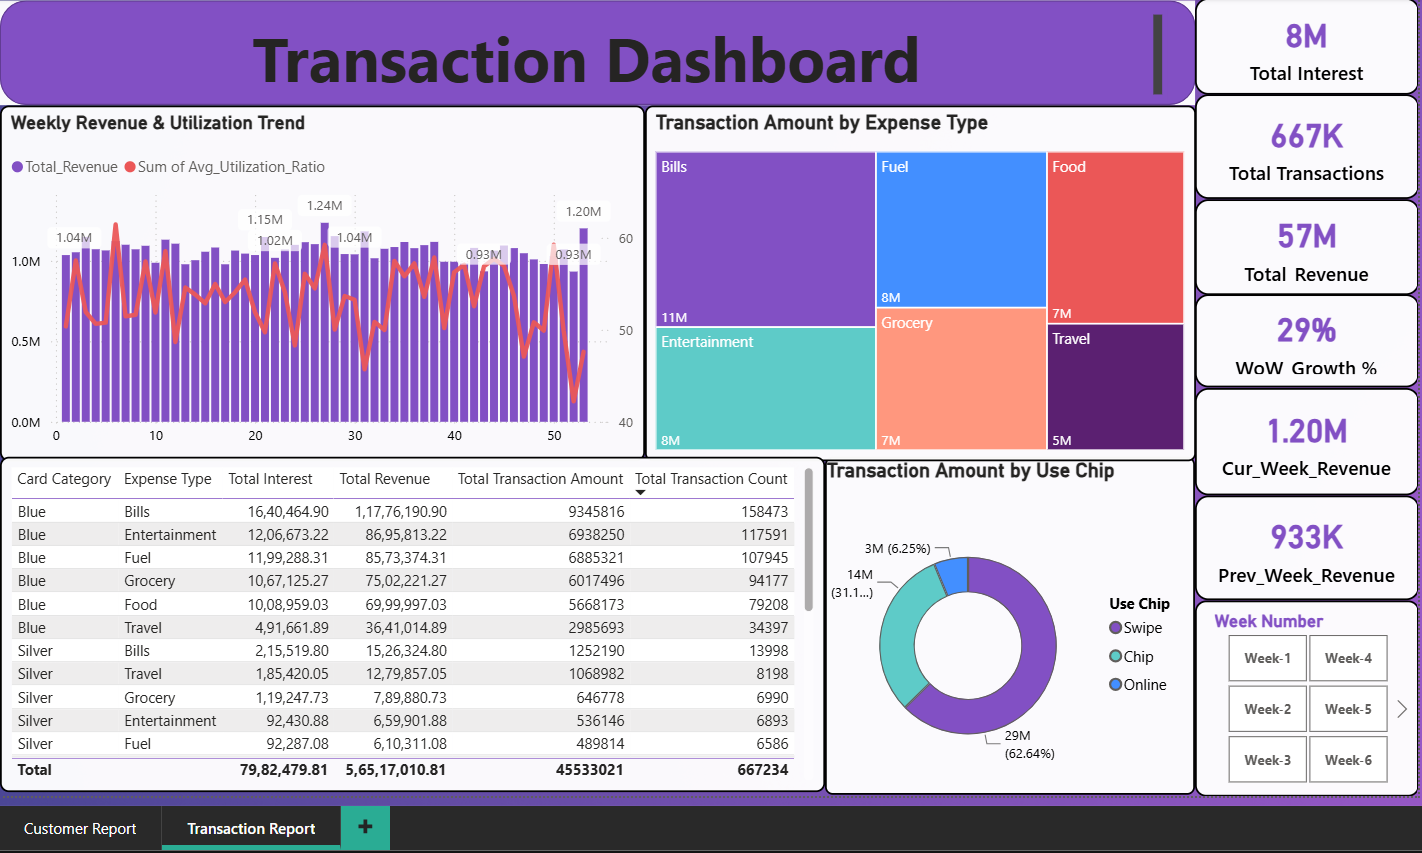

The page's visual inventory and layout, read from the dashboard file:
{"tool":"powerbi","page":{"name":"Transaction Report","canvas":[1280,720],"ordinal":1},"visuals":[{"type":"slicer","fields":{"Values":["Customer.Gender"]},"box":[1135.7,0,142.7,98.8],"z":0},{"type":"shape","box":[0,0,935.5,105.7],"z":1000},{"type":"textbox","box":[13.7,10,906.8,87.1],"z":2000},{"type":"card","fields":{"Values":["Customer.Total_Revenue"]},"box":[935.5,0,201.5,94.5],"z":3000},{"type":"card","fields":{"Values":["Customer.Cur_Week_Revenue"]},"box":[935.5,94.5,201.5,98.3],"z":4000},{"type":"card","fields":{"Values":["Customer.WoW_Revenue_Growth %"]},"box":[935.5,296.1,201.5,103.2],"z":5000},{"type":"card","fields":{"Values":["Customer.Previous_Week_Revenue"]},"box":[935.5,192.8,201.5,103.2],"z":6000},{"type":"donutChart","title":"Transaction_Amt by Use Chip","fields":{"Category":["Transaction.Use Chip"],"Y":["Sum(Transaction.Total_Trans_Amt)"]},"box":[0,105.7,390.6,293.6],"z":7000},{"type":"lineChart","fields":{"Y":["Customer.Avg_Utilization_Ratio"],"Category":["Transaction.Week_Num"]},"box":[390.6,103.2,544.9,296.1],"z":8000},{"type":"lineChart","title":"Revenue by Week_Num_Sort","fields":{"Category":["Transaction.Week_Num_Sort"],"Y":["Customer.Total_Revenue"]},"box":[674.2,399.3,604.6,320.9],"z":9000},{"type":"treemap","title":" Transaction_Amt by Exp Type","fields":{"Group":["Transaction.Exp Type"],"Values":["Sum(Transaction.Total_Trans_Amt)"]},"box":[0,399.3,674.2,320.9],"z":10000},{"type":"slicer","fields":{"Values":["Transaction.Week_Num"]},"box":[1137,248.8,143.1,150.5],"z":11000},{"type":"slicer","fields":{"Values":["Transaction.Exp Type"]},"box":[1137,99.5,143.1,149.3],"z":12000}]}

Visuals, with their boxes on the page's 1280x720 design canvas (x1, y1, x2, y2). These are canvas units, not pixel positions in the 1422x853 screenshot, which may show the page scaled, cropped or inside an application window:
slicer - Customer.Gender: (x1=1136, y1=0, x2=1278, y2=99)
shape: (x1=0, y1=0, x2=936, y2=106)
textbox: (x1=14, y1=10, x2=920, y2=97)
card - Customer.Total_Revenue: (x1=936, y1=0, x2=1137, y2=94)
card - Customer.Cur_Week_Revenue: (x1=936, y1=94, x2=1137, y2=193)
card - Customer.WoW_Revenue_Growth %: (x1=936, y1=296, x2=1137, y2=399)
card - Customer.Previous_Week_Revenue: (x1=936, y1=193, x2=1137, y2=296)
"Transaction_Amt by Use Chip" donutChart: (x1=0, y1=106, x2=391, y2=399)
lineChart - Customer.Avg_Utilization_Ratio x Transaction.Week_Num: (x1=391, y1=103, x2=936, y2=399)
"Revenue by Week_Num_Sort" lineChart: (x1=674, y1=399, x2=1279, y2=720)
" Transaction_Amt by Exp Type" treemap: (x1=0, y1=399, x2=674, y2=720)
slicer - Transaction.Week_Num: (x1=1137, y1=249, x2=1280, y2=399)
slicer - Transaction.Exp Type: (x1=1137, y1=100, x2=1280, y2=249)
